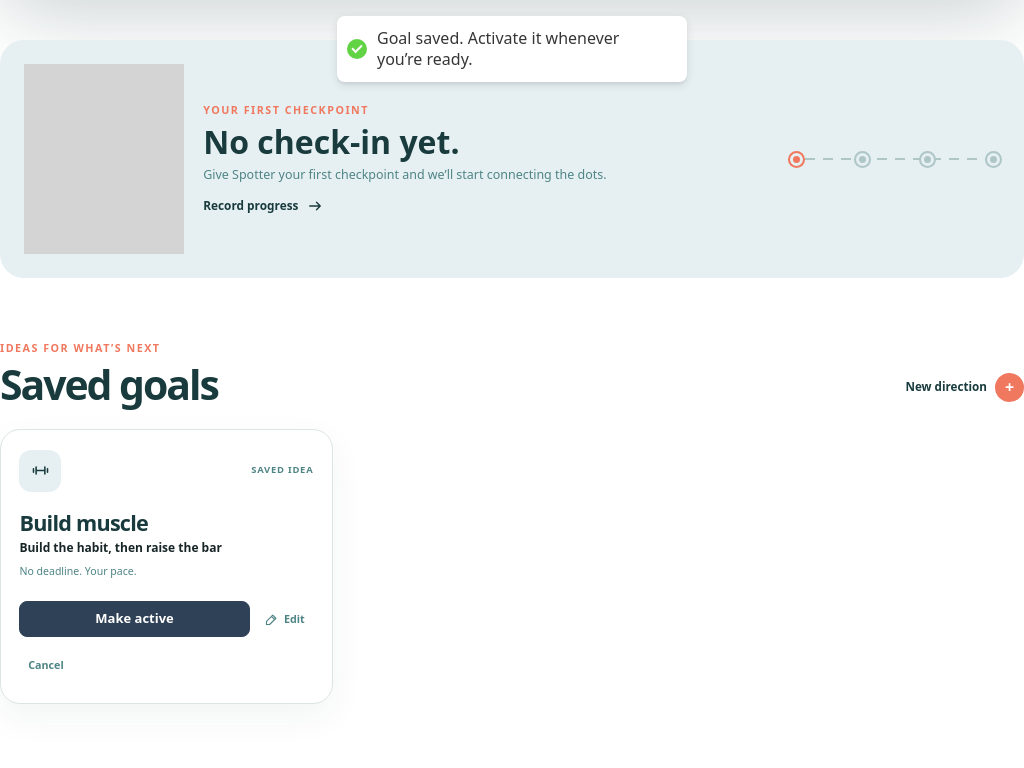
GoalsPage › turns an activation conflict into context and keeps the draft
(page scrolled)
Click the button "Make active". click: (135, 619)
box: x1=19 y1=601 x2=250 y2=637
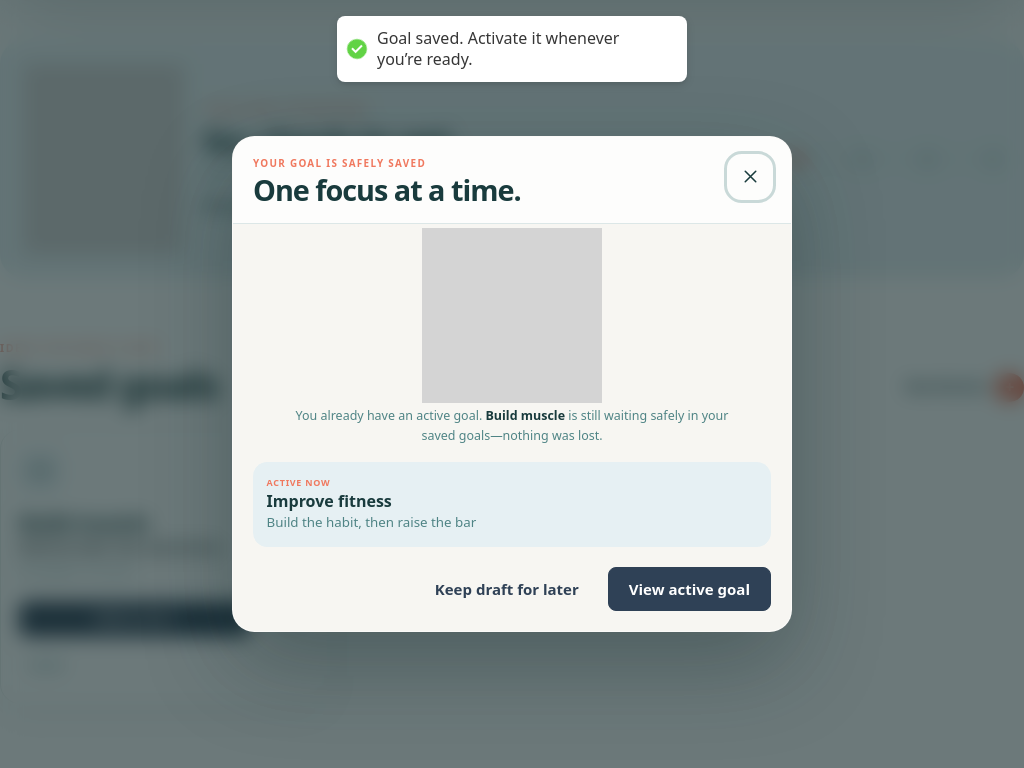
Expected: the heading "One focus at a time." is shown, x1=253 y1=173 x2=521 y2=207
Expected: the text "nothing was lost" is shown, x1=422 y1=407 x2=728 y2=444
